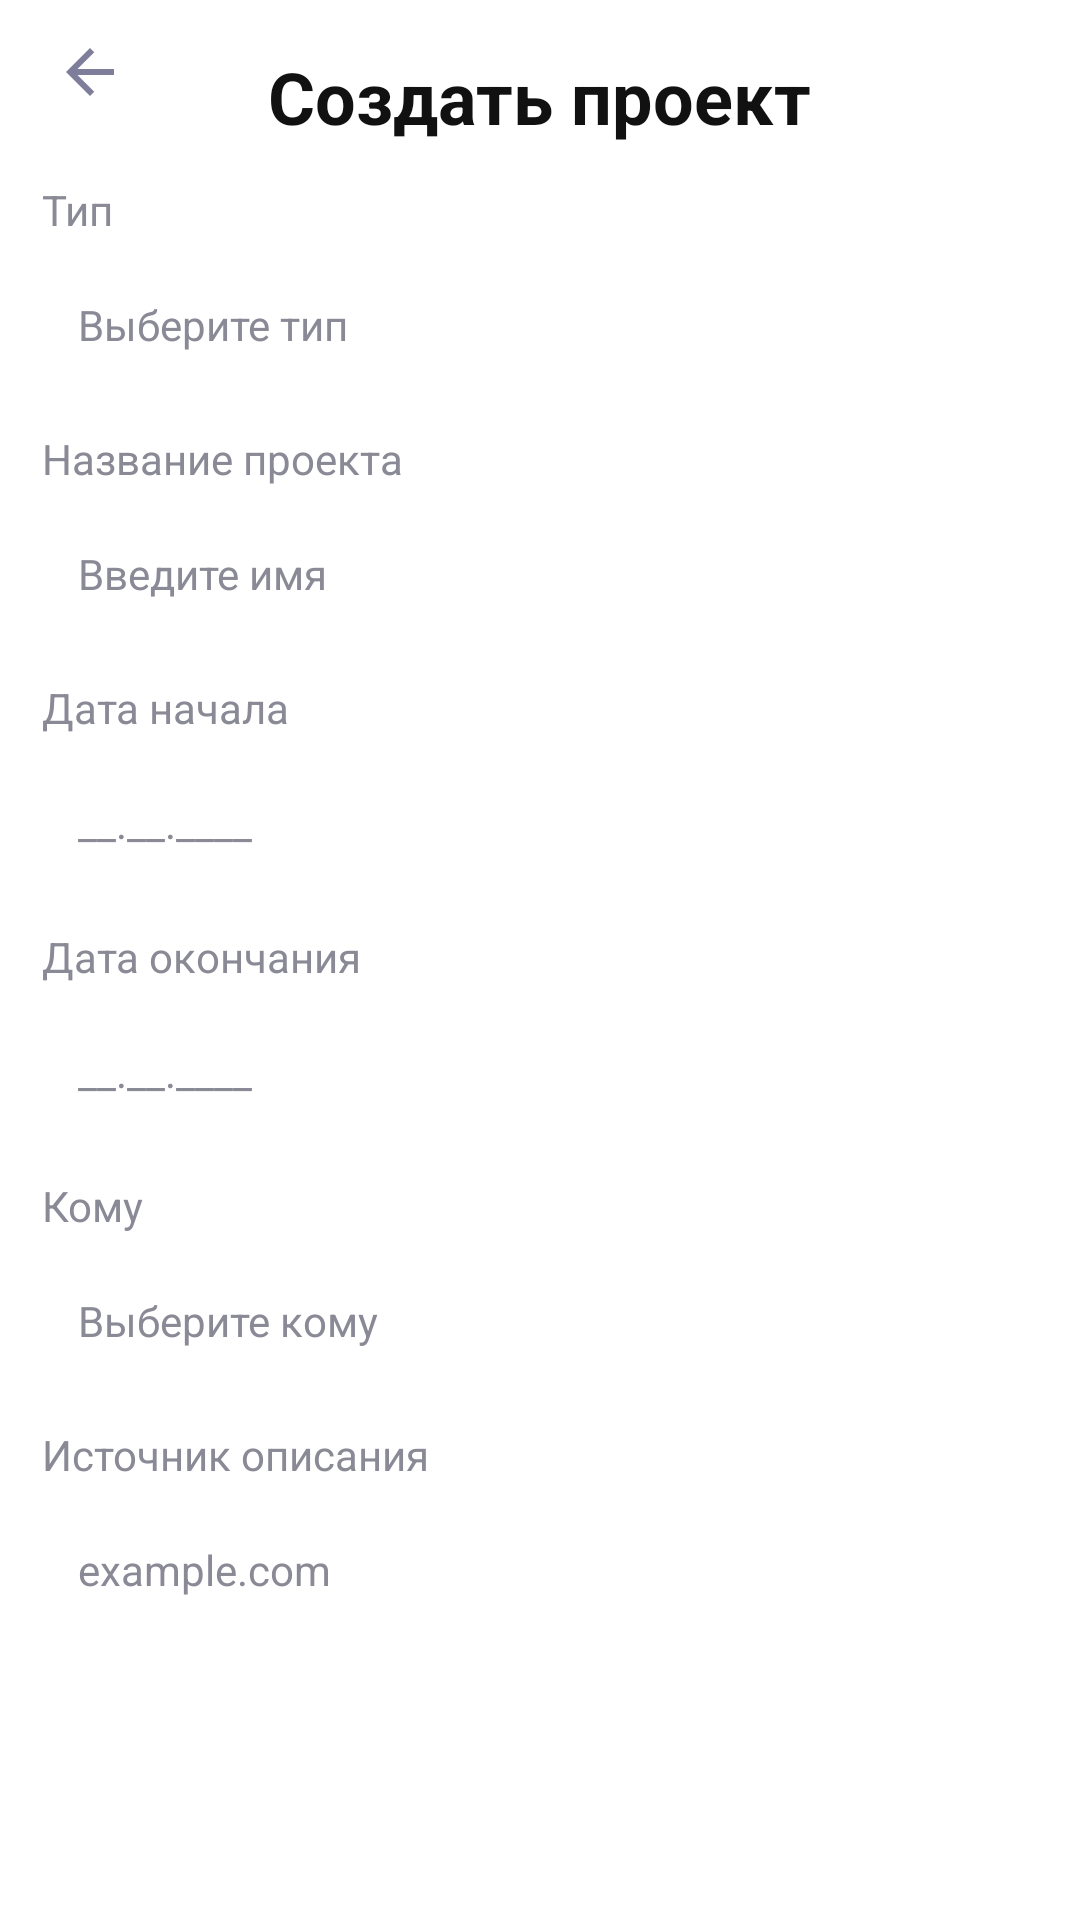

Screen size 1080px×1920px. Icon name, then its center in pixels as (x,y):
arrow back: (90,72)
